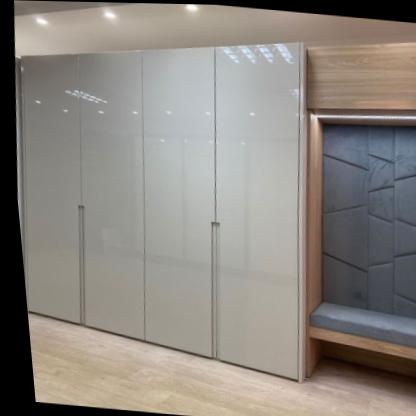Closet: (14, 41, 310, 382)
Wooden floor: (22, 313, 416, 416)
